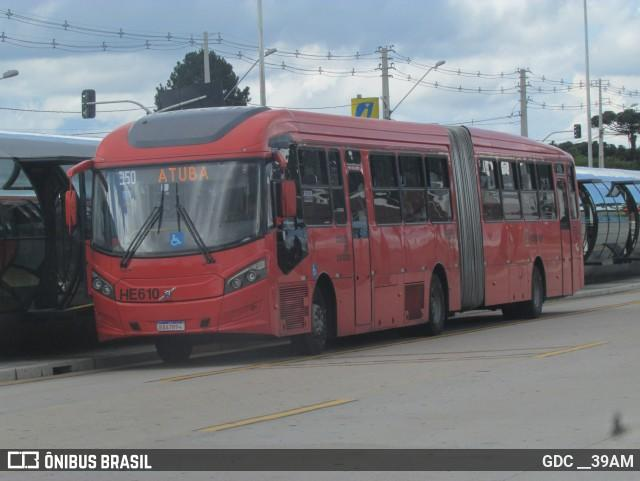ATUBA: (150, 163, 214, 187)
